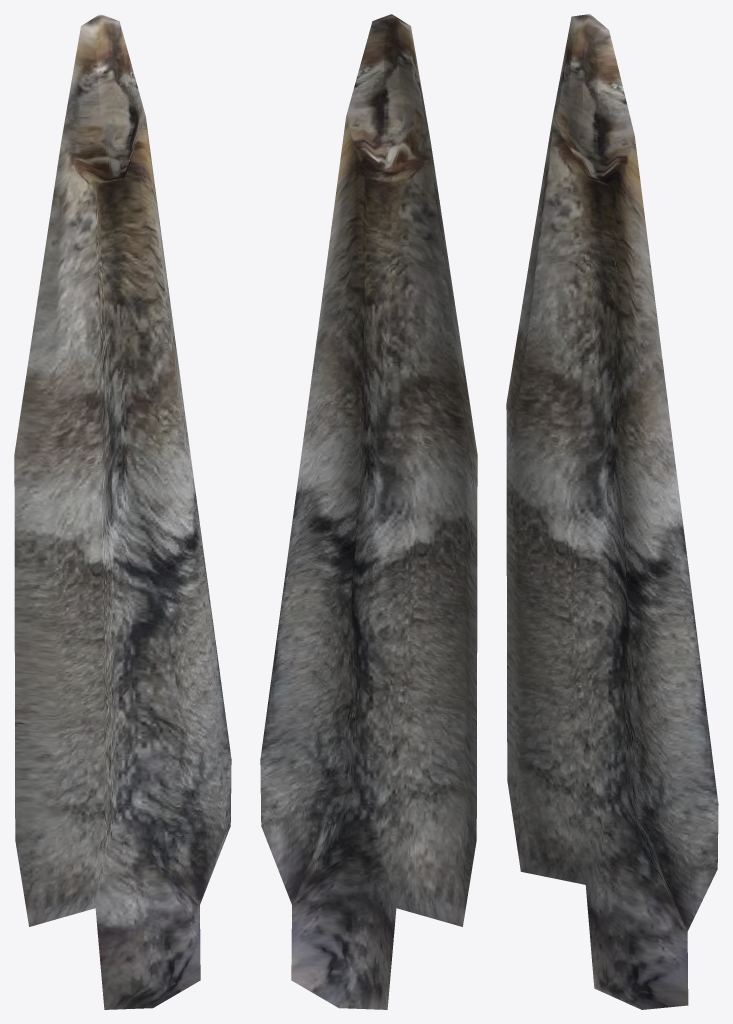
The model's file is shkura.fbx.
3 views of the same model, side by side, from view 1: azimuth 30°, elevation 25°; view 2: azimuth 150°, elevation 25°; view 3: azimuth 330°, elevation 25° (orthographic). The views are drawn at different scales.
Parts seen in each view (by area): view 1: shkura; view 2: shkura; view 3: shkura.
Boxes of the visible parts, x1,y1,x2,y2 form: shkura: (14,14,231,1009); shkura: (260,14,477,1009); shkura: (506,14,718,1009).
Bounding box in the file's own units: 31.62 × 140 × 3.82.
Materials: 1 (1 with a texture image).
